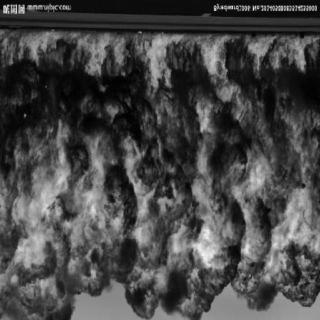Fire: (3, 29, 315, 301)
